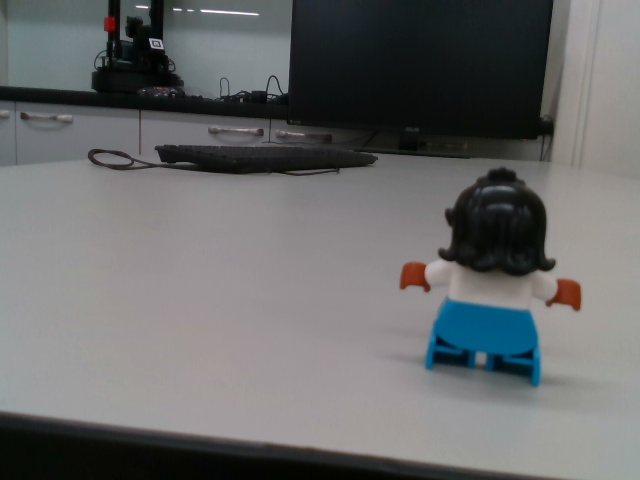people: (397, 164, 586, 391)
